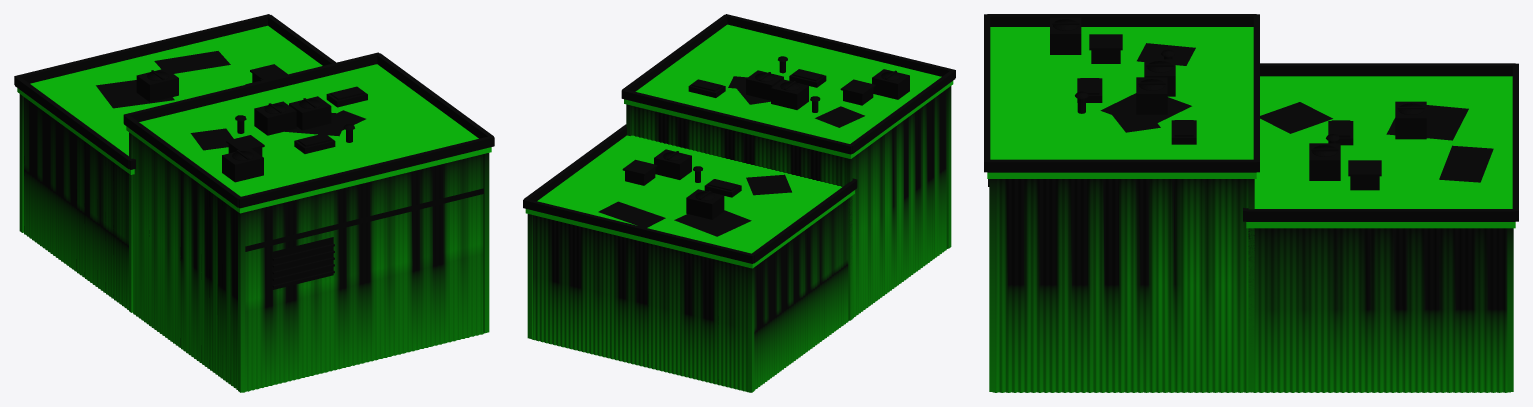
The model's file is factorymd.glb.
The picture shows the model from 3 angles, left to right: view 1: azimuth 30°, elevation 25°; view 2: azimuth 150°, elevation 25°; view 3: azimuth 270°, elevation 25°; orthographic projection. The views are drawn at different scales.
Visible parts, largest first — view 1: lod0; view 2: lod0; view 3: lod0.
Part boxes in pixels (x1,y1,x2,y2): lod0: (14, 14, 494, 392); lod0: (523, 14, 955, 392); lod0: (984, 14, 1518, 392).
Size of what is drawn, in the model's own units: 16.8 by 13.04 by 25.6.
